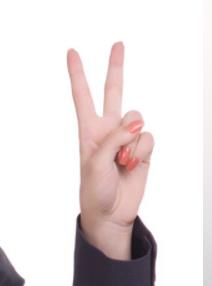front: (64, 37, 157, 221)
